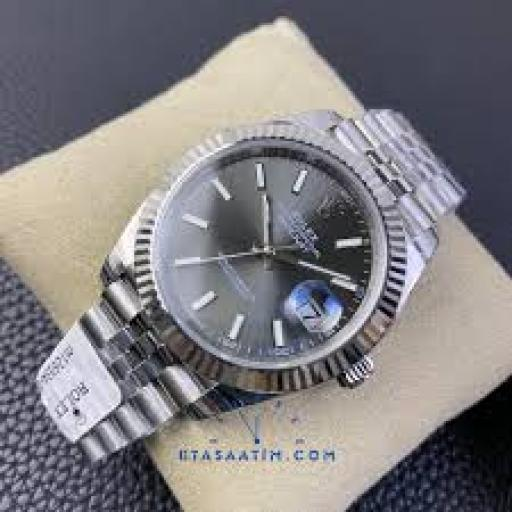KolSaati: (4, 64, 493, 481)
